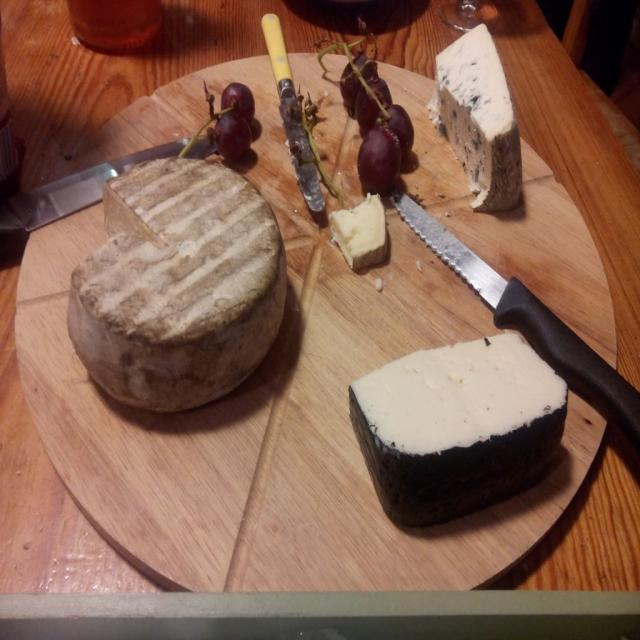Cheese: (66, 156, 292, 414), (348, 327, 570, 528), (427, 19, 525, 213), (328, 194, 384, 270)
